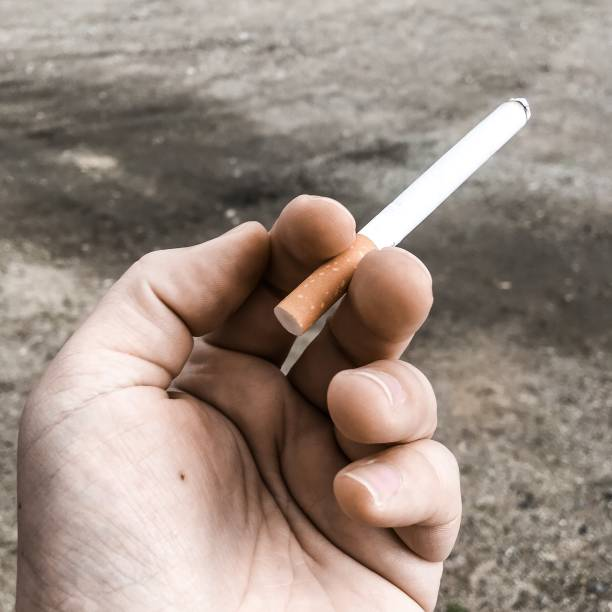cigarette: (273, 91, 532, 338)
